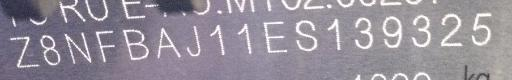letter: (8, 33, 40, 70), (61, 29, 93, 65), (438, 11, 468, 49), (466, 10, 496, 46), (261, 19, 291, 54), (322, 16, 350, 52), (292, 17, 320, 52), (122, 25, 150, 60), (351, 14, 377, 51), (378, 12, 404, 48), (156, 24, 182, 60), (94, 27, 120, 63), (410, 11, 434, 48), (38, 31, 62, 67), (209, 21, 229, 57), (184, 24, 204, 60), (236, 21, 254, 55)
